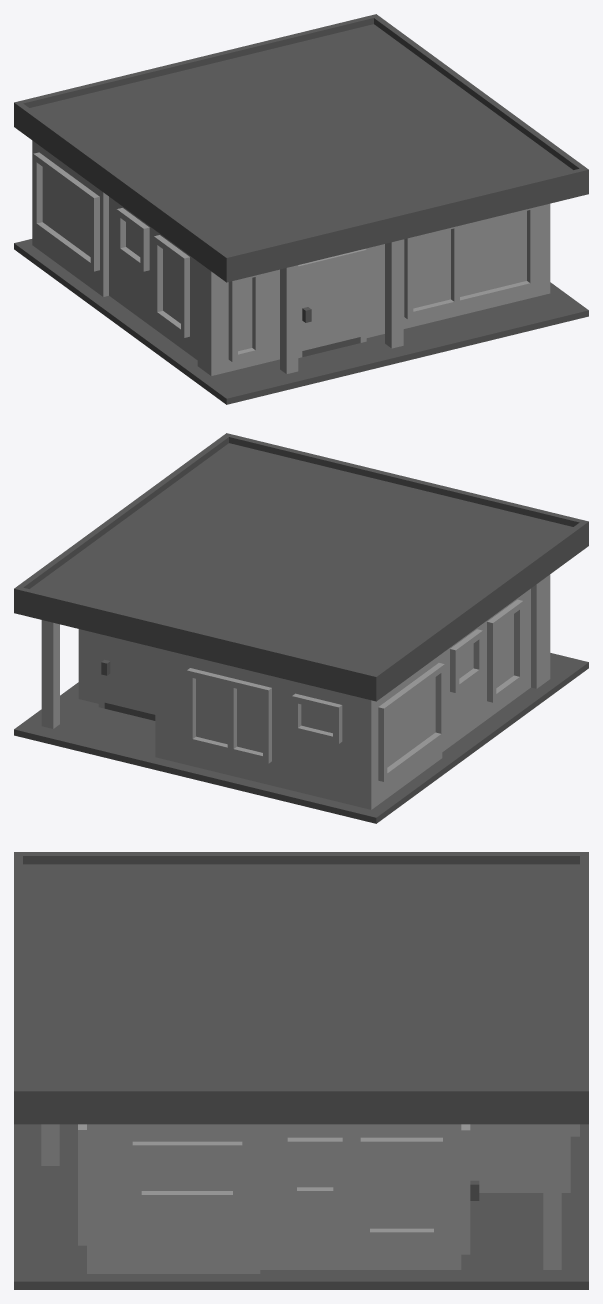
File: bld_house1a.obj
The picture shows the model from 3 angles, top to bottom: view 1: azimuth 30°, elevation 25°; view 2: azimuth 150°, elevation 25°; view 3: azimuth 270°, elevation 25°; orthographic projection. The views are drawn at different scales.
Bounding box in the file's own units: 62 × 24 × 63.
